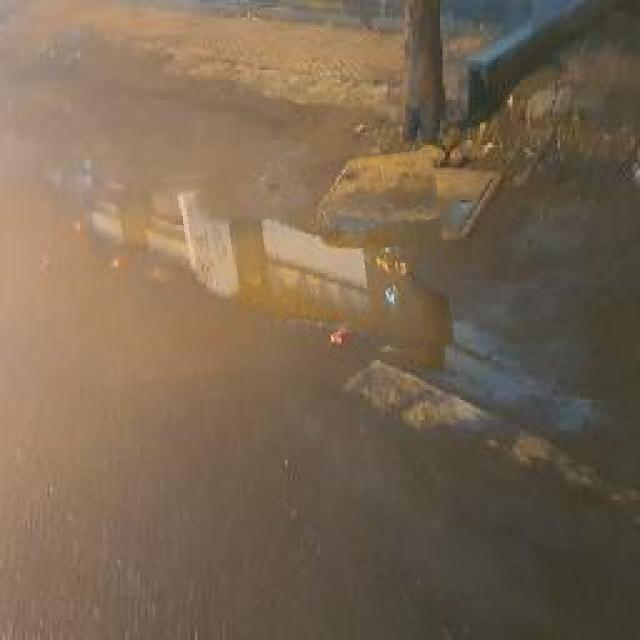puddle: (88, 161, 452, 378)
